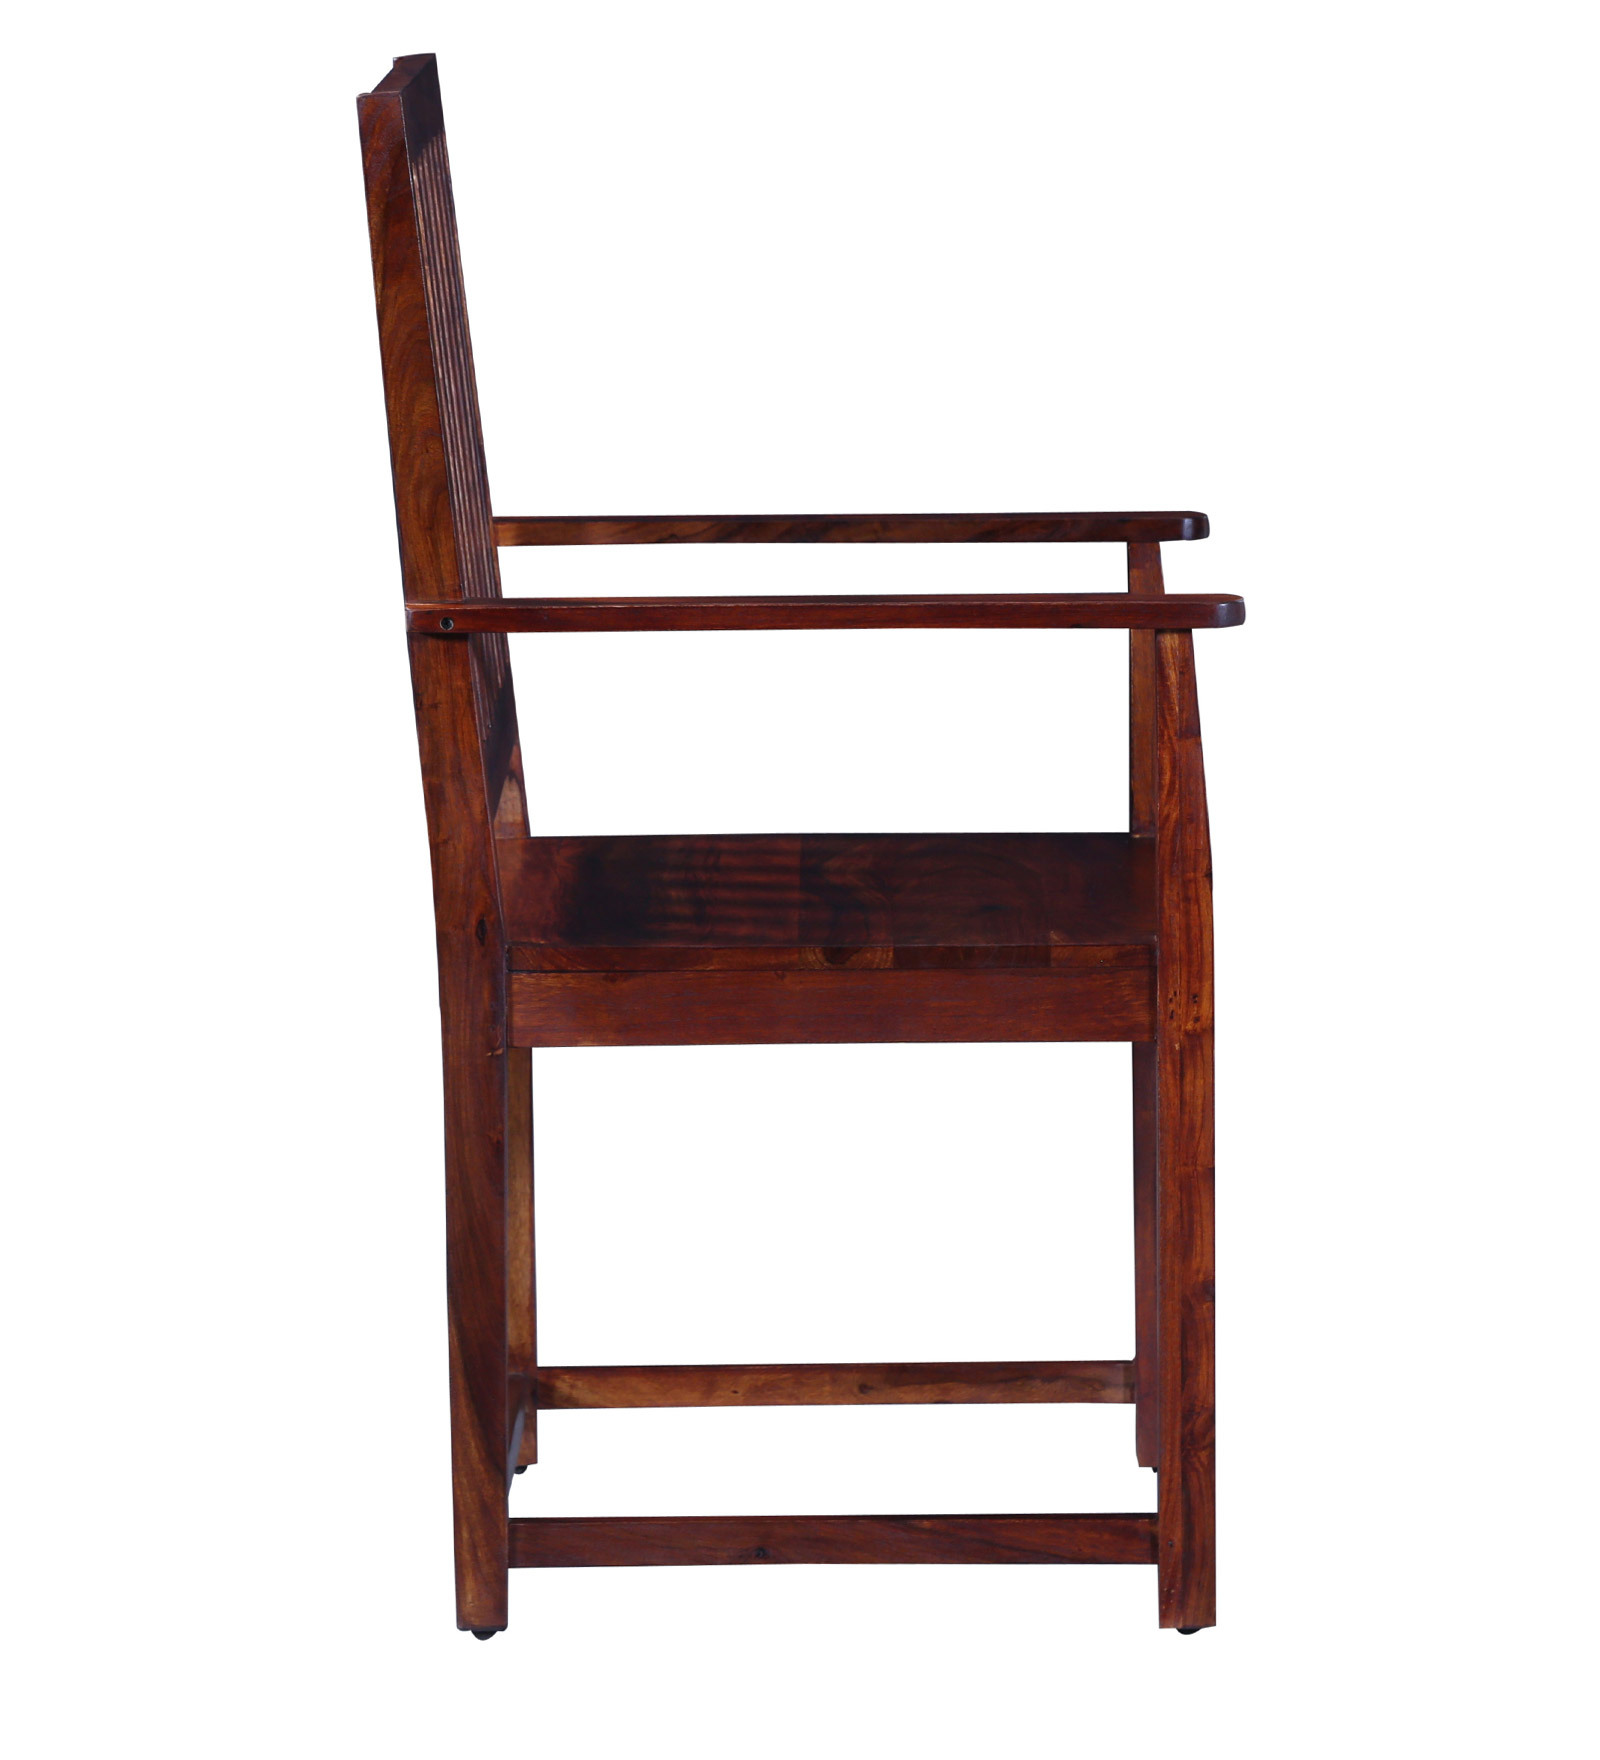Abbey Arm Chair in Honey Oak Finish by Woodsworth: (297, 26, 1270, 1656)
